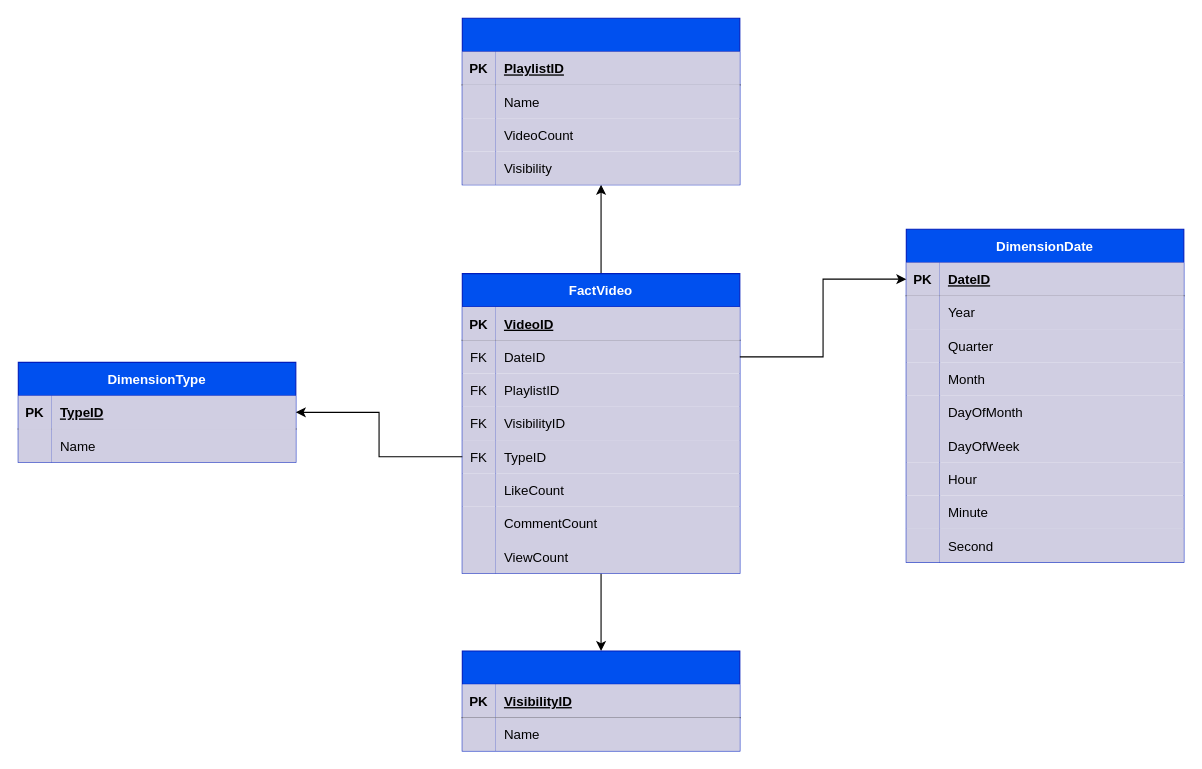
This 1202x769 diagram has some shape labels left out. Each missing label, with the box of its shape:
DimensionPlaylist: (461, 17, 740, 185)
DimensionVisibility: (461, 650, 740, 751)
